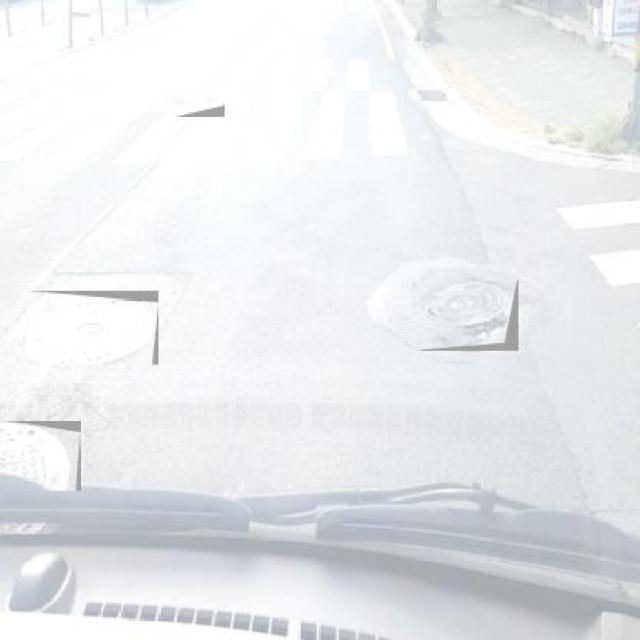Manhole: (26, 290, 159, 364), (419, 279, 518, 352), (0, 420, 80, 491), (173, 103, 224, 117), (408, 87, 450, 103)
Speed Bump: (543, 200, 640, 323)
